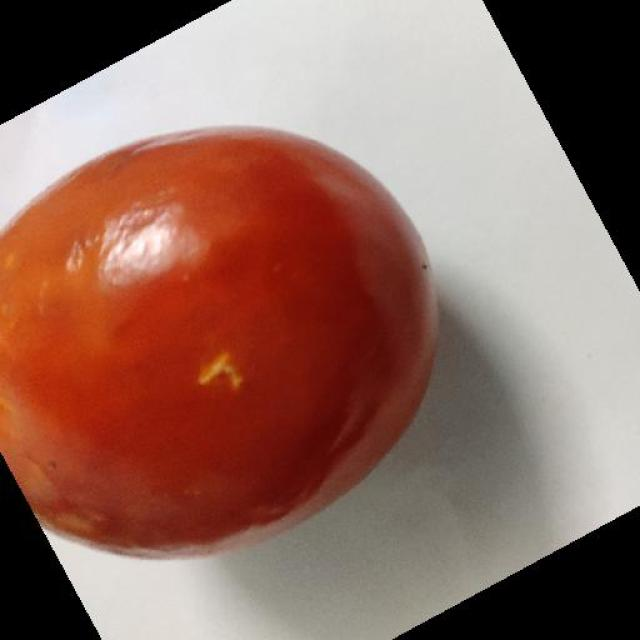Stale_tomato: (0, 72, 450, 484)
